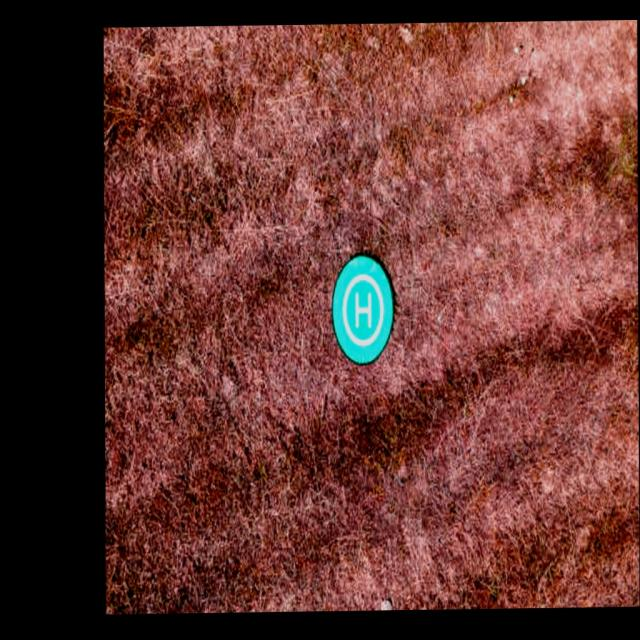helipad: (339, 270, 386, 348)
